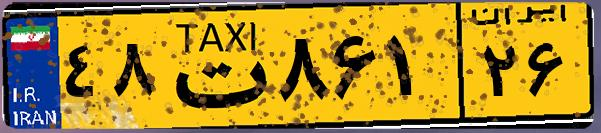1: (385, 28, 445, 110)
2: (475, 38, 525, 113)
4: (57, 26, 110, 100)
6: (330, 28, 385, 110), (525, 38, 570, 115)
8: (270, 28, 330, 110), (110, 28, 158, 98)
ت: (158, 12, 270, 120)
